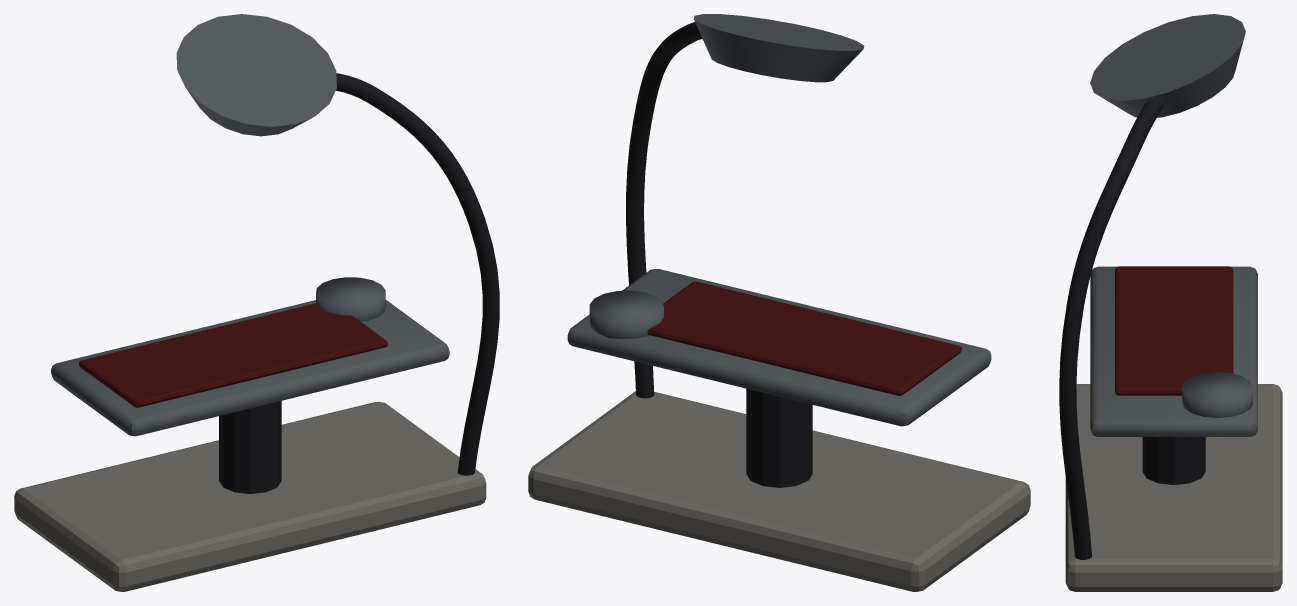
File: optable.glb
3 views of the same model, side by side, from view 1: azimuth 30°, elevation 25°; view 2: azimuth 150°, elevation 25°; view 3: azimuth 270°, elevation 25° (orthographic). The views are drawn at different scales.
Visible parts, largest first — view 1: Cube, Cube.002, Cylinder.002, Cube.001, pipe, Cylinder, Cylinder.001; view 2: Cube, Cube.002, Cube.001, Cylinder.002, Cylinder, pipe, Cylinder.001; view 3: Cube, Cube.002, Cube.001, Cylinder.002, pipe, Cylinder, Cylinder.001.
Part boxes in pixels (x1,y1,x2,y2): Cube: (14,401,486,591); Cube.002: (78,303,387,407); Cylinder.002: (176,14,336,136); Cube.001: (51,300,449,436); pipe: (336,73,499,475); Cylinder: (219,401,281,493); Cylinder.001: (316,277,385,321); Cube: (528,391,1030,591); Cube.002: (647,281,961,395); Cube.001: (567,269,991,426); Cylinder.002: (694,14,864,82); Cylinder: (746,388,812,487); pipe: (626,22,702,398); Cylinder.001: (589,290,663,338); Cube: (1065,384,1282,591); Cube.002: (1115,266,1233,395); Cube.001: (1090,266,1257,436); Cylinder.002: (1090,14,1245,117); pipe: (1059,101,1163,559); Cylinder: (1142,437,1205,484); Cylinder.001: (1182,372,1252,417).
Size of the model in its own units: 2.26 by 2.65 by 1.13.
